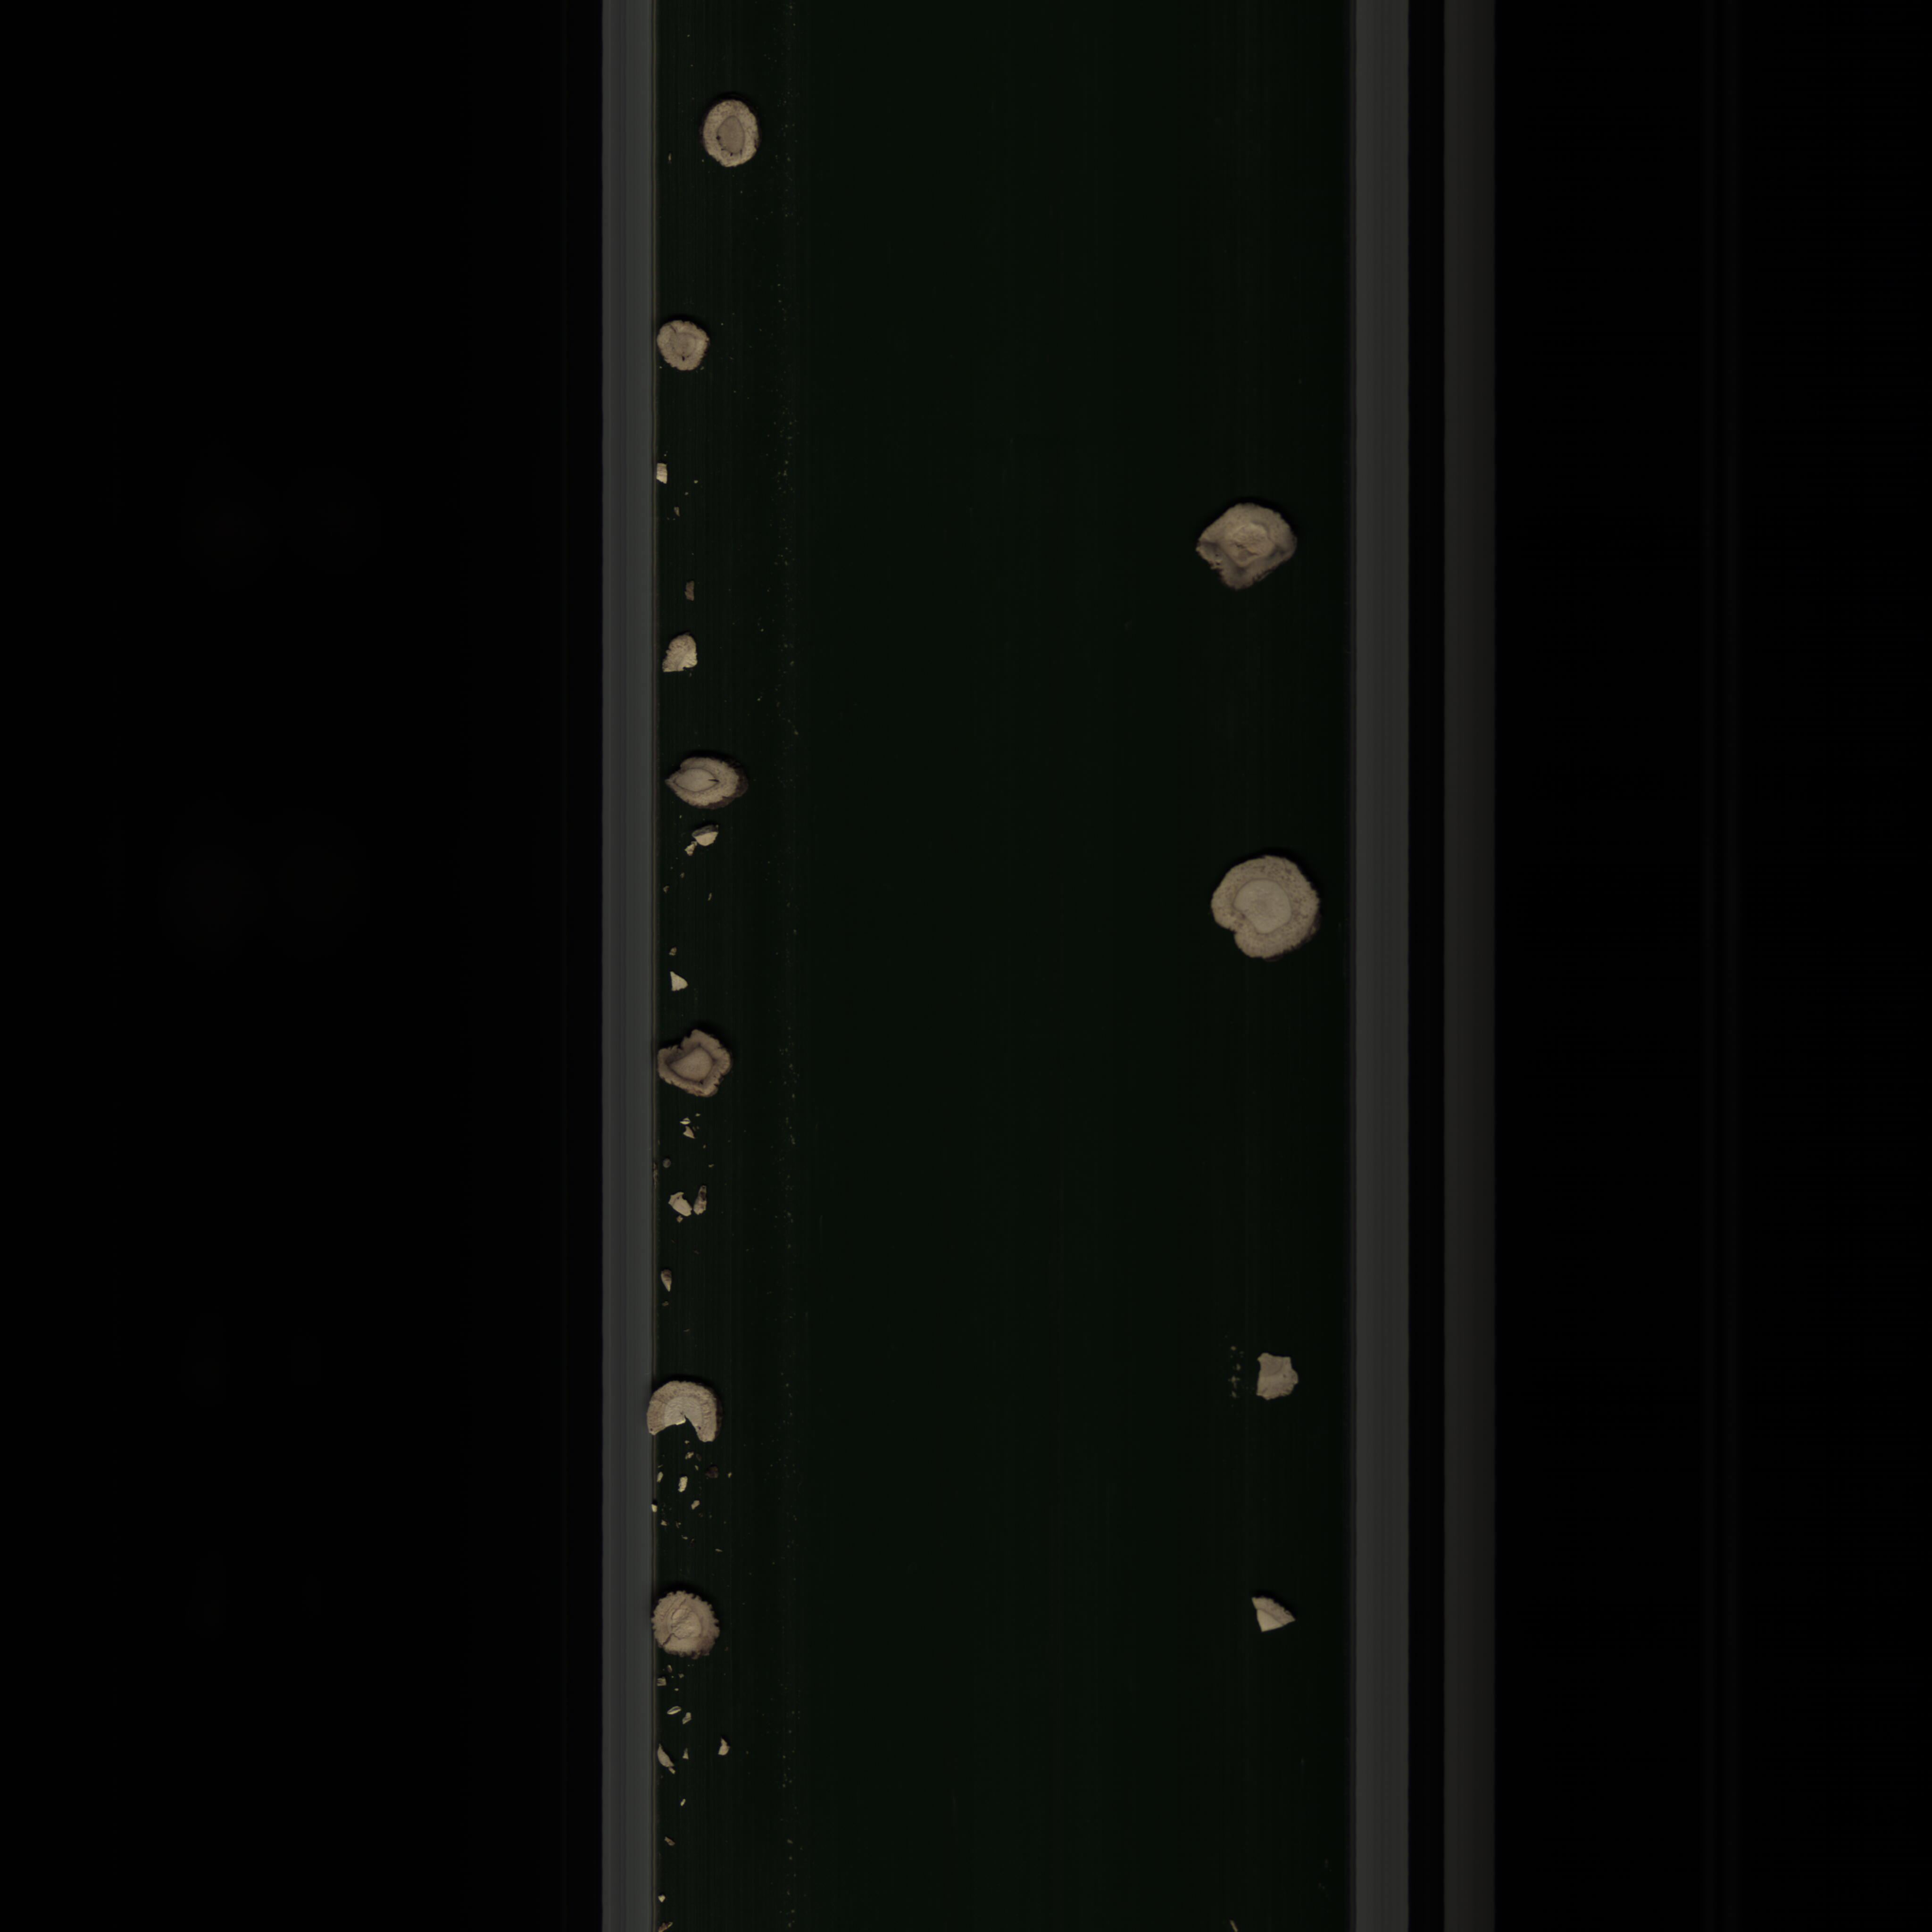debris: (642, 1373, 729, 1454), (1247, 1339, 1313, 1414), (1242, 1592, 1302, 1644)
moldy: (1184, 495, 1304, 603), (694, 92, 773, 180), (656, 1031, 741, 1102), (658, 752, 754, 814), (655, 311, 715, 375)
